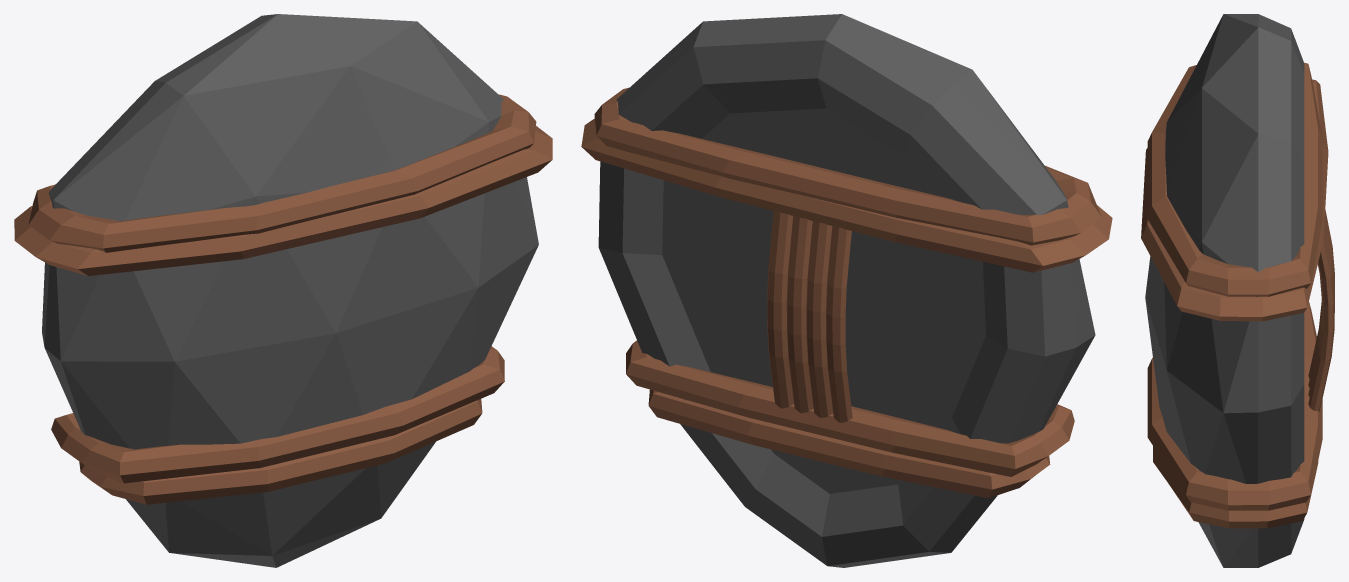
The model's file is Stone Shield.fbx.
3 views of the same model, side by side, from view 1: azimuth 30°, elevation 25°; view 2: azimuth 150°, elevation 25°; view 3: azimuth 270°, elevation 25° (orthographic). The views are drawn at different scales.
Parts seen in each view (by area): view 1: Stone Shield; view 2: Stone Shield; view 3: Stone Shield.
Part boxes in pixels (<box>): Stone Shield: <box>14,14,552,567</box>; Stone Shield: <box>581,14,1112,567</box>; Stone Shield: <box>1141,14,1334,567</box>.
Size of the model in its own units: 66.5 by 68.94 by 22.41.
